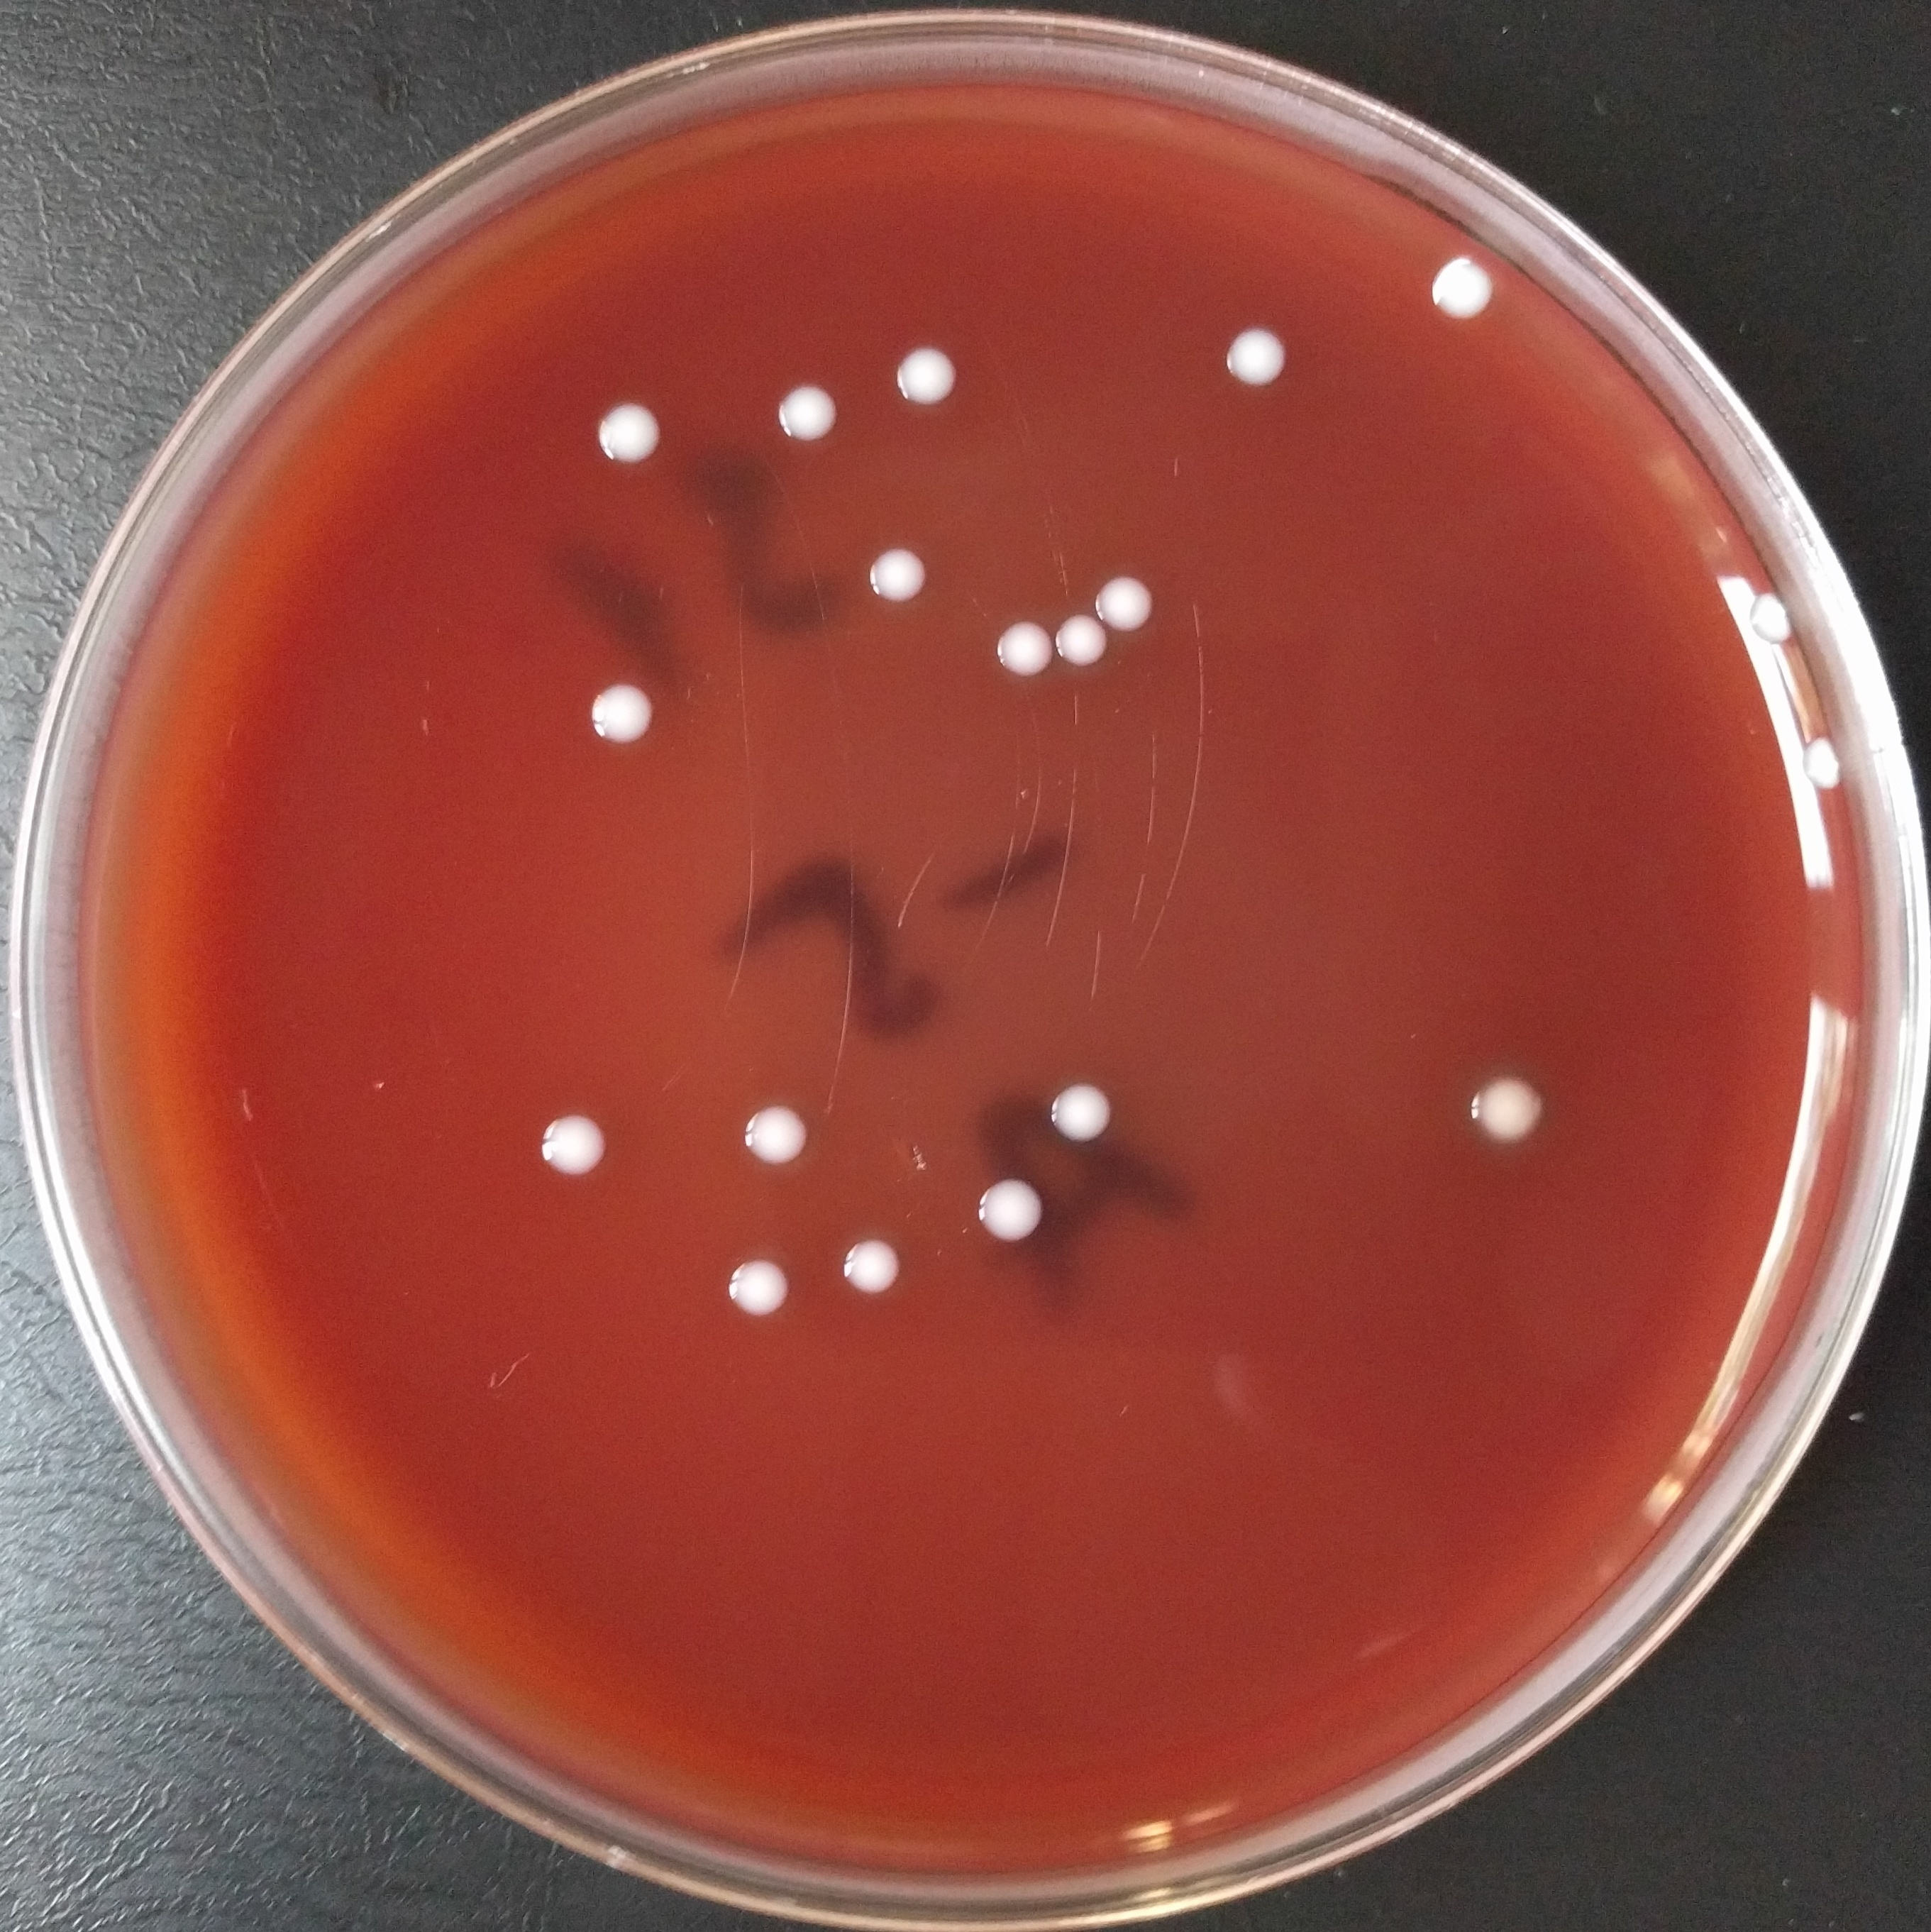sp03: (523, 1086, 626, 1189), (571, 676, 675, 771), (838, 534, 941, 625), (1210, 318, 1314, 407), (1459, 1062, 1558, 1150), (564, 391, 672, 469), (965, 1166, 1047, 1258), (764, 380, 858, 458), (888, 338, 969, 425), (835, 1230, 916, 1307), (732, 1106, 826, 1171), (1423, 241, 1500, 318), (1088, 566, 1162, 646), (723, 1240, 790, 1325), (1038, 1065, 1112, 1139), (1788, 724, 1864, 796), (974, 609, 1054, 678), (1731, 571, 1795, 649), (1056, 602, 1116, 681)
